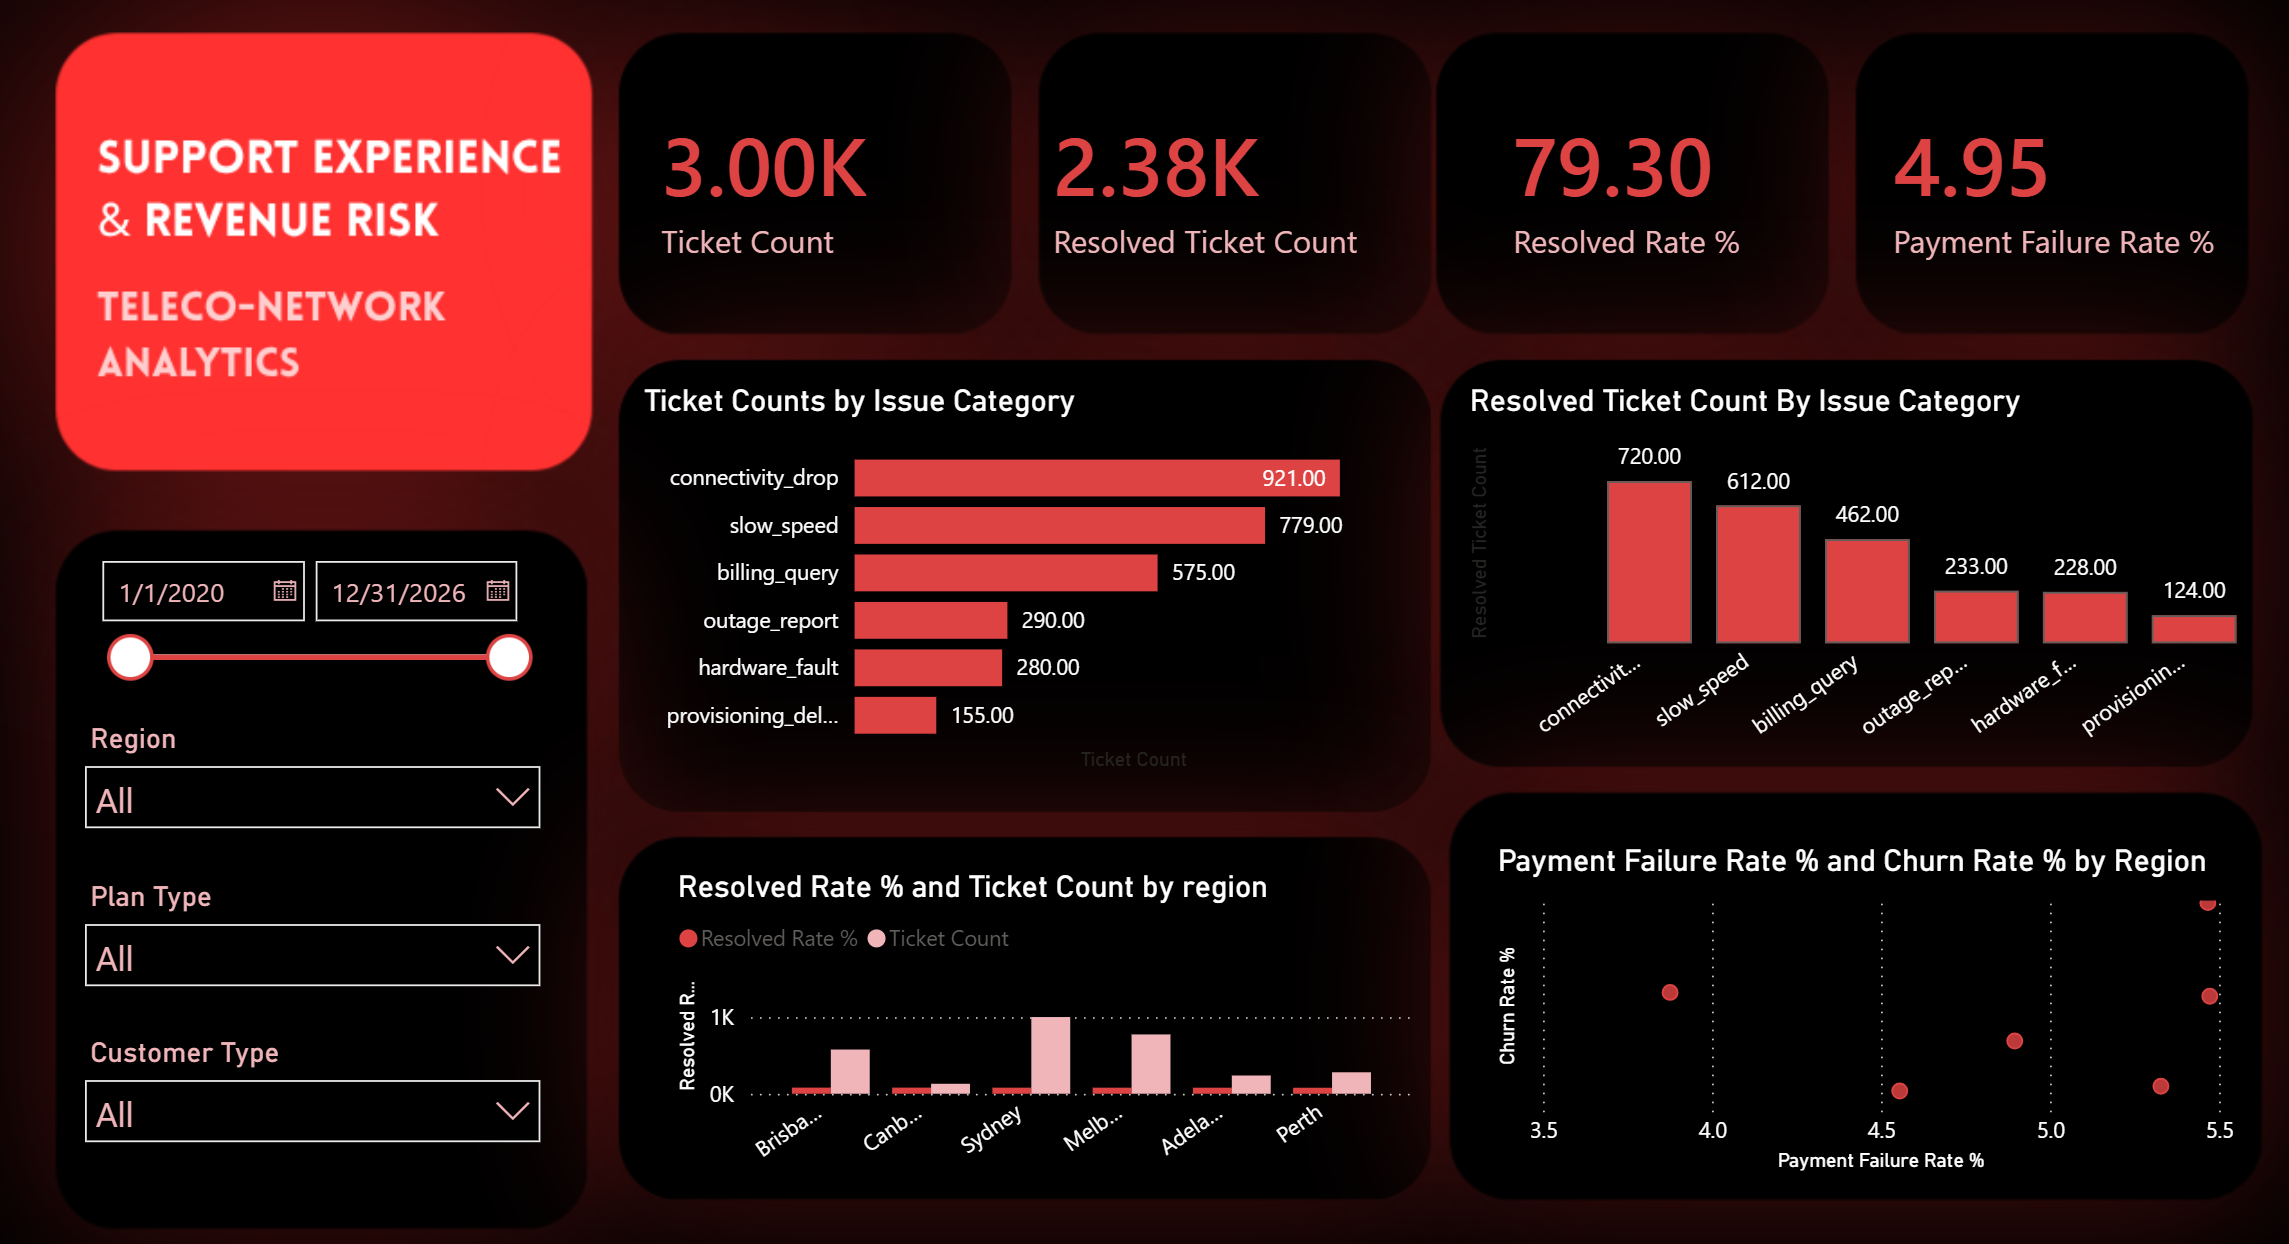

What the dashboard file says about the page in this screenshot:
{"tool":"powerbi","page":{"name":"Support Experience and Revenue Risk","canvas":[1280,720],"ordinal":2},"visuals":[{"type":"cardVisual","fields":{"Data":["facttickets.Ticket Count"]},"box":[345.7,44.3,232.9,121.4],"z":0},{"type":"cardVisual","fields":{"Data":["facttickets.Resolved Ticket Count"]},"box":[562.9,44.3,255.7,121.4],"z":1000},{"type":"cardVisual","fields":{"Data":["facttickets.Resolved Rate %"]},"box":[818.6,44.3,211.4,121.4],"z":2000},{"type":"cardVisual","fields":{"Data":["factbilling.Payment Failure Rate %"]},"box":[1030,44.3,238.6,121.4],"z":3000},{"type":"barChart","title":"Ticket Counts by Issue Category ","fields":{"Y":["facttickets.Ticket Count"],"Category":["dimissuecategory.issue_category"]},"box":[360,215.7,437.1,220],"z":4000},{"type":"columnChart","title":"Resolved Ticket Count By Issue Category","fields":{"Category":["dimissuecategory.issue_category"],"Y":["facttickets.Resolved Ticket Count"]},"box":[818.6,215.7,461.4,208.6],"z":5000},{"type":"scatterChart","title":"Payment Failure Rate % and Churn Rate % by Region","fields":{"Category":["dimregion.region"],"X":["factbilling.Payment Failure Rate %"],"Y":["dimcustomer.Churn Rate %"]},"box":[834.3,471.4,418.6,187.1],"z":6000},{"type":"slicer","fields":{"Values":["dimdate.date"]},"box":[51.4,304.3,260,94.3],"z":7000},{"type":"slicer","fields":{"Values":["dimregion.region"]},"box":[44.3,398.6,272.9,72.9],"z":8000},{"type":"slicer","fields":{"Values":["dimcustomer.plan_type"]},"box":[44.3,487.1,272.9,72.9],"z":9000},{"type":"slicer","fields":{"Values":["dimcustomer.customer_type"]},"box":[44.3,572.9,272.9,72.9],"z":10000},{"type":"clusteredColumnChart","fields":{"Y":["facttickets.Resolved Rate %","facttickets.Ticket Count"],"Category":["dimregion.region"]},"box":[378.6,485.7,418.6,172.9],"z":11000}]}

Visuals, with their boxes on the page's 1280x720 design canvas (x1, y1, x2, y2). These are canvas units, not pixel positions in the 2289x1244 screenshot, which may show the page scaled, cropped or inside an application window:
cardVisual - facttickets.Ticket Count: box=[346, 44, 579, 166]
cardVisual - facttickets.Resolved Ticket Count: box=[563, 44, 819, 166]
cardVisual - facttickets.Resolved Rate %: box=[819, 44, 1030, 166]
cardVisual - factbilling.Payment Failure Rate %: box=[1030, 44, 1269, 166]
"Ticket Counts by Issue Category " barChart: box=[360, 216, 797, 436]
"Resolved Ticket Count By Issue Category" columnChart: box=[819, 216, 1280, 424]
"Payment Failure Rate % and Churn Rate % by Region" scatterChart: box=[834, 471, 1253, 658]
slicer - dimdate.date: box=[51, 304, 311, 399]
slicer - dimregion.region: box=[44, 399, 317, 472]
slicer - dimcustomer.plan_type: box=[44, 487, 317, 560]
slicer - dimcustomer.customer_type: box=[44, 573, 317, 646]
clusteredColumnChart - facttickets.Resolved Rate % x facttickets.Ticket Count: box=[379, 486, 797, 659]
